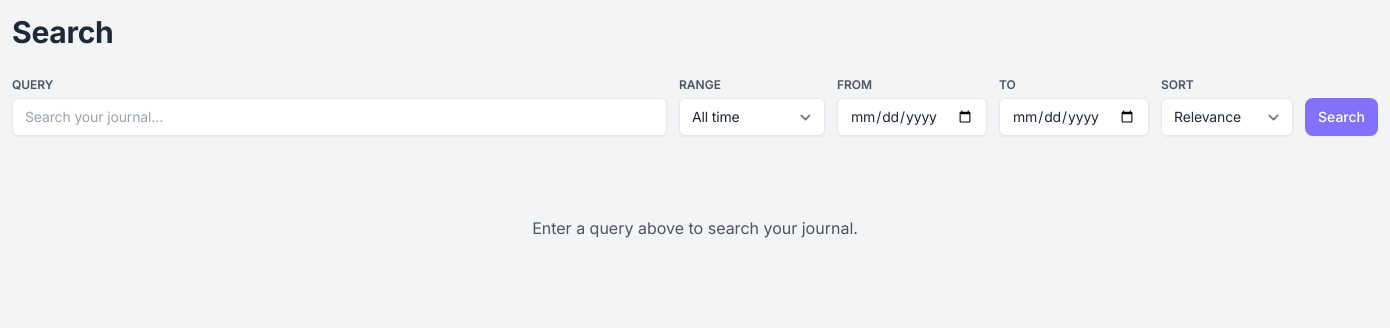
Scenario: SearchView › renders "Matched by keywords" when only BM25 contributed
Type "vienna" into the search field with test id "search-query-input". click: {"x": 340, "y": 117}
box: left=12, top=98, right=667, bottom=136
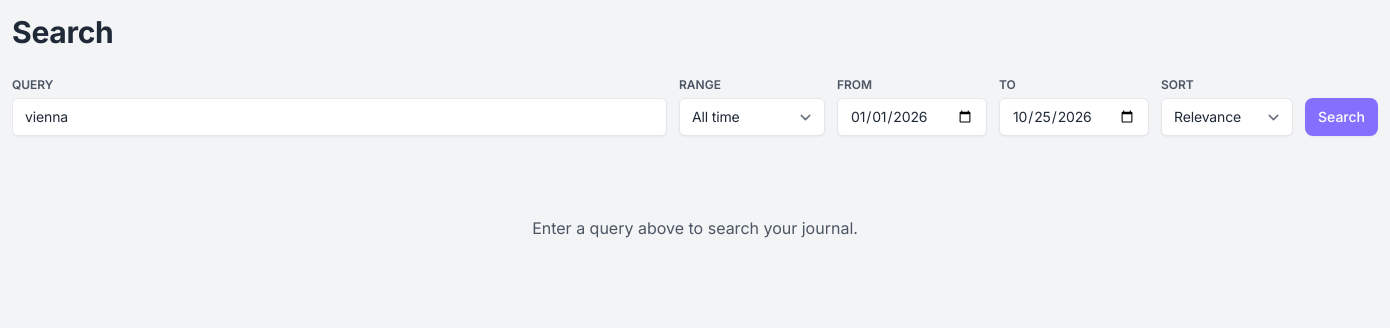
Submit the form with test id "search-form", box left=12, top=76, right=1378, bottom=136
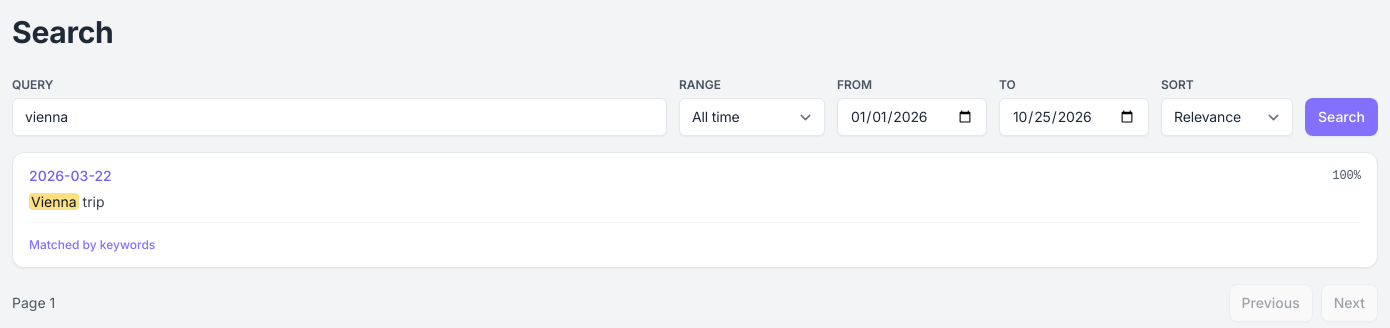
Now the element with test id "match-explanation" is shown, box left=29, top=222, right=1361, bottom=255
Now the element with test id "match-explanation" reads "Matched by keywords", box left=29, top=237, right=155, bottom=252
